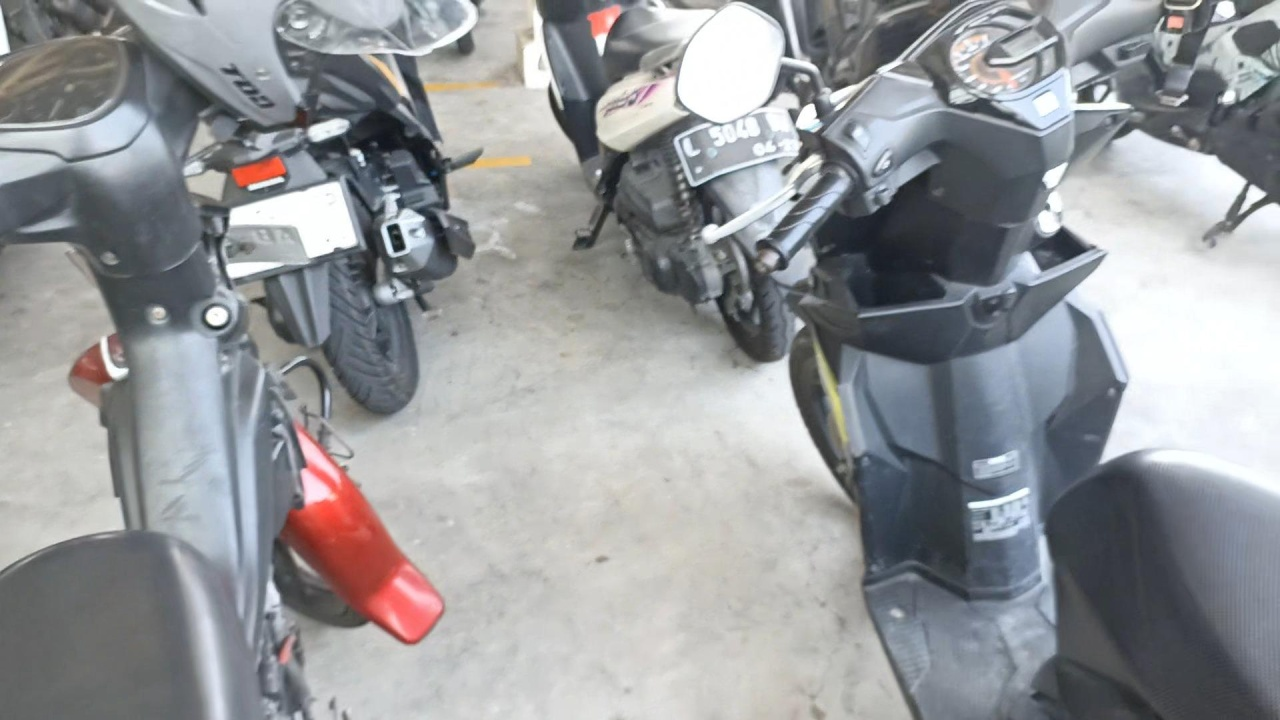plate: (674, 109, 803, 186)
